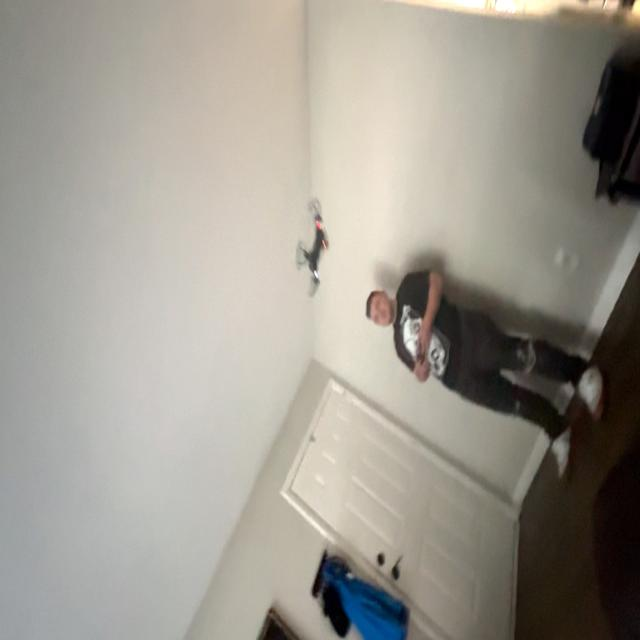drone: (289, 190, 333, 312)
